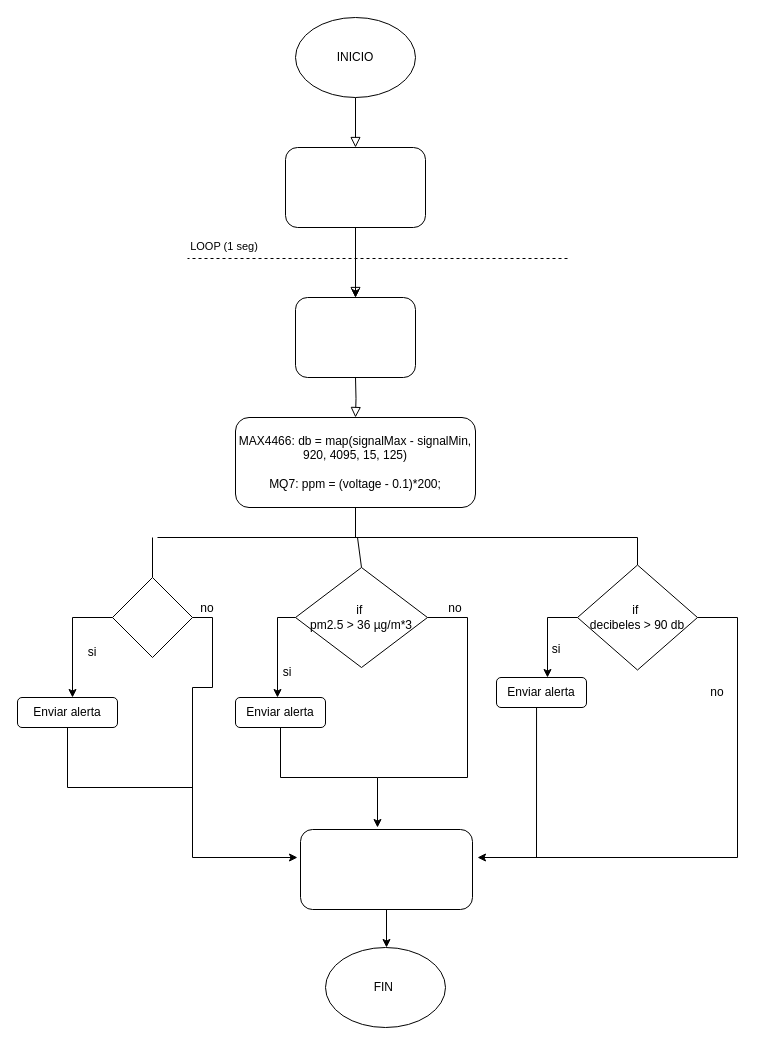
Some shapes in this 765 by 1045 pixel diagram are drawn without their labels. The centre of each missing label's shape, as x and y in pixels:
"if CO > 200 ppm" goes at [152,617].
"INICIALIZAR -pin A0 (MQ7) - pin A0 (max4466) - pin RX (pm3003) - pin TX (pms3003" goes at [355,187].
"Mostrar datos en la aplicación" goes at [386,869].
"obtener lecturas de los pines de cada sensor" goes at [355,337].
